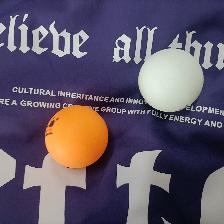WhiteBall: (137, 47, 204, 112)
YellowBall: (44, 104, 108, 168)
